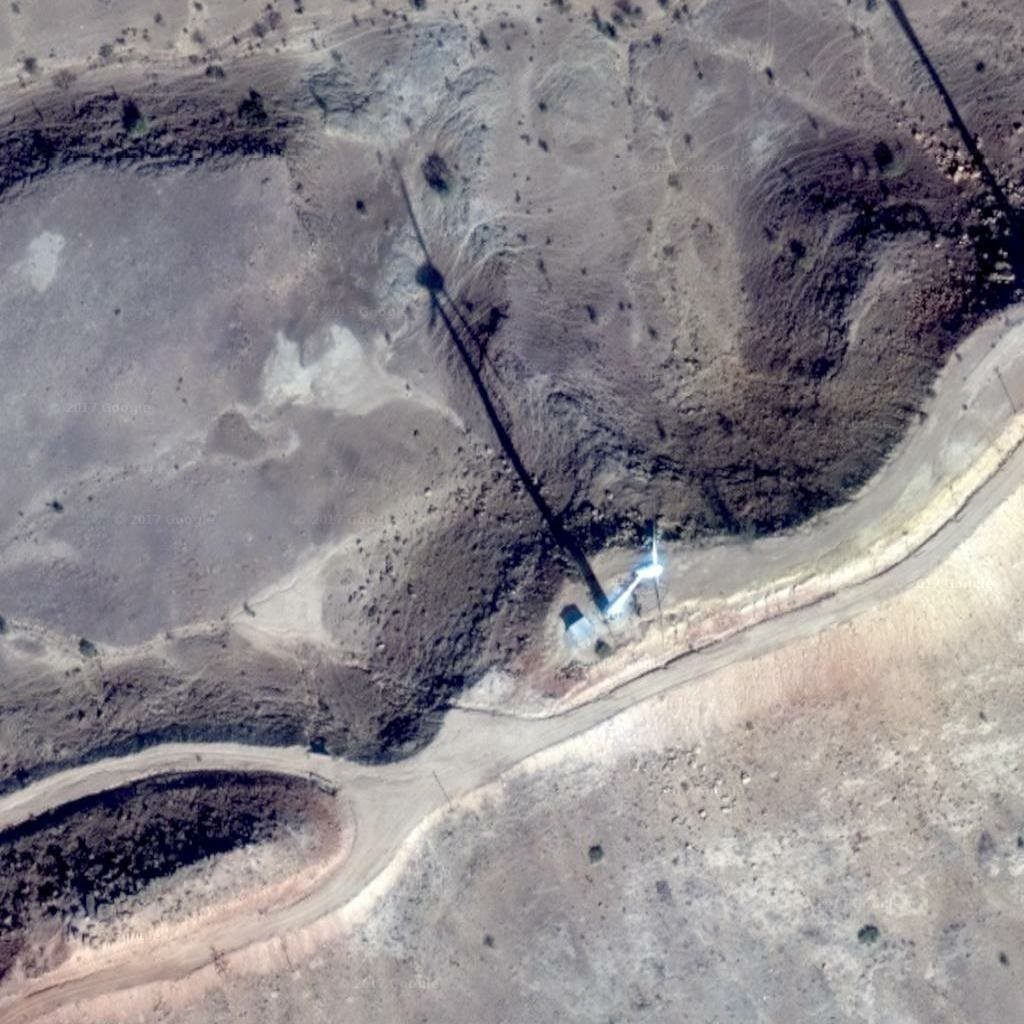Windmill: (372, 164, 616, 605)
